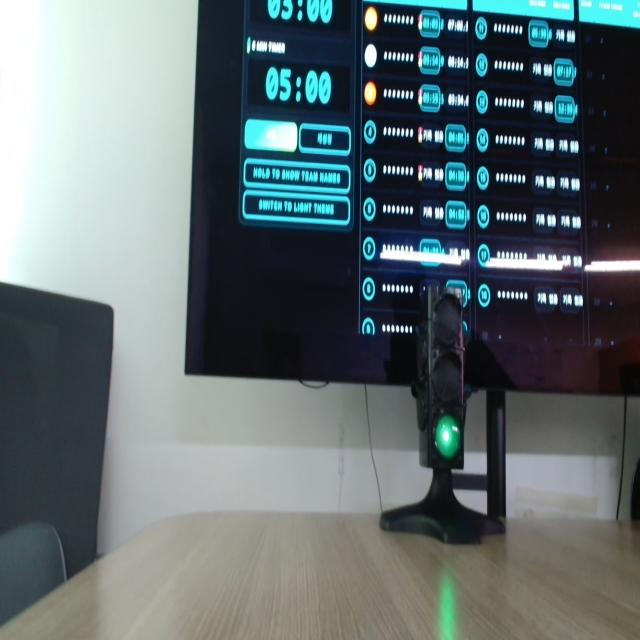green_light: (435, 415, 460, 459)
